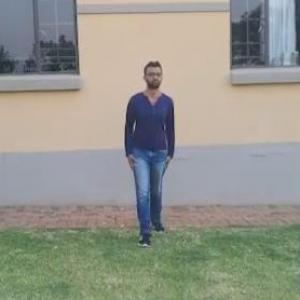follow: (116, 46, 184, 266)
